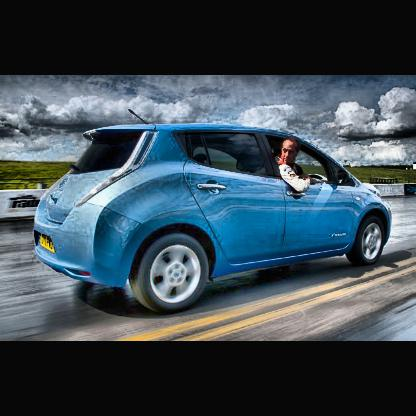Nissan Leaf Hatchback 2012: (32, 124, 395, 308)
